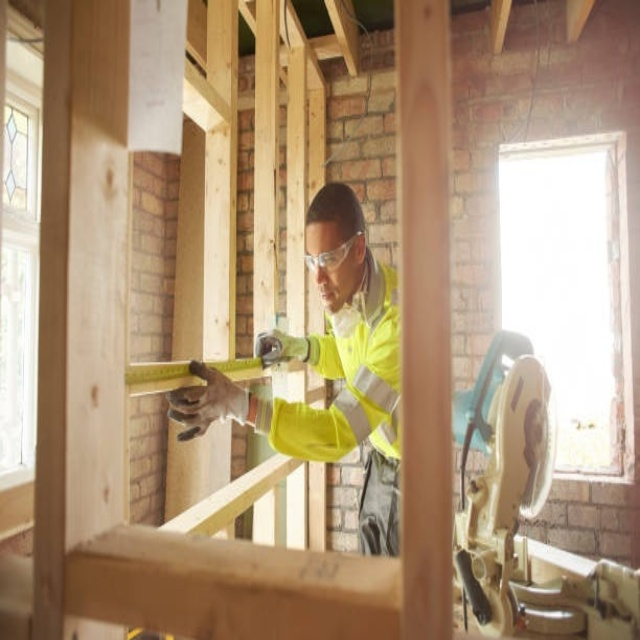Gafas: (305, 232, 361, 272)
Guantes: (160, 356, 253, 447), (255, 323, 318, 370)
Sin_mascara: (317, 287, 341, 318)
